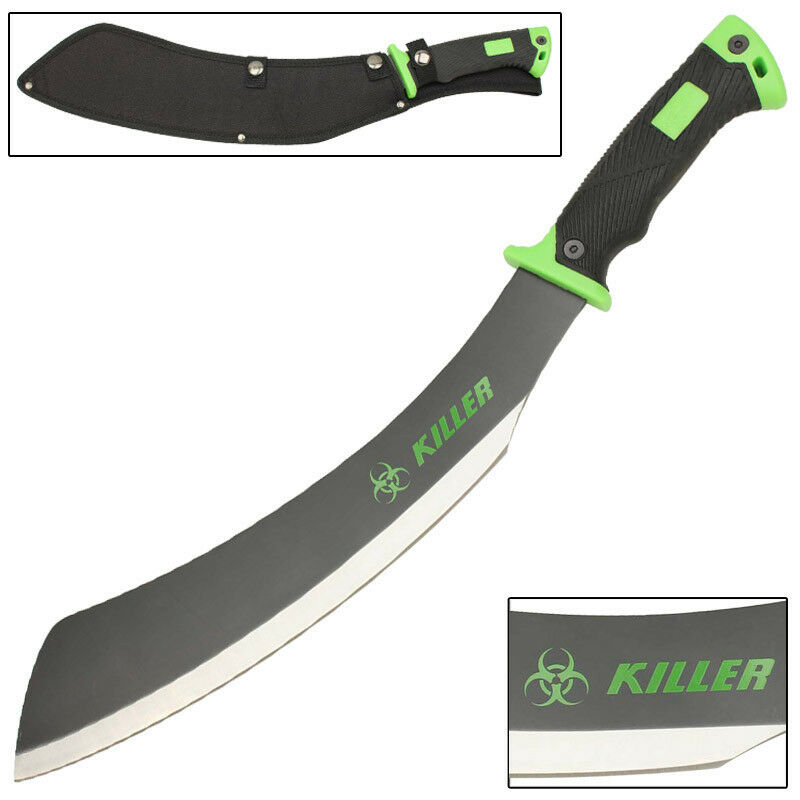knief: (30, 243, 520, 786), (8, 14, 558, 152)
